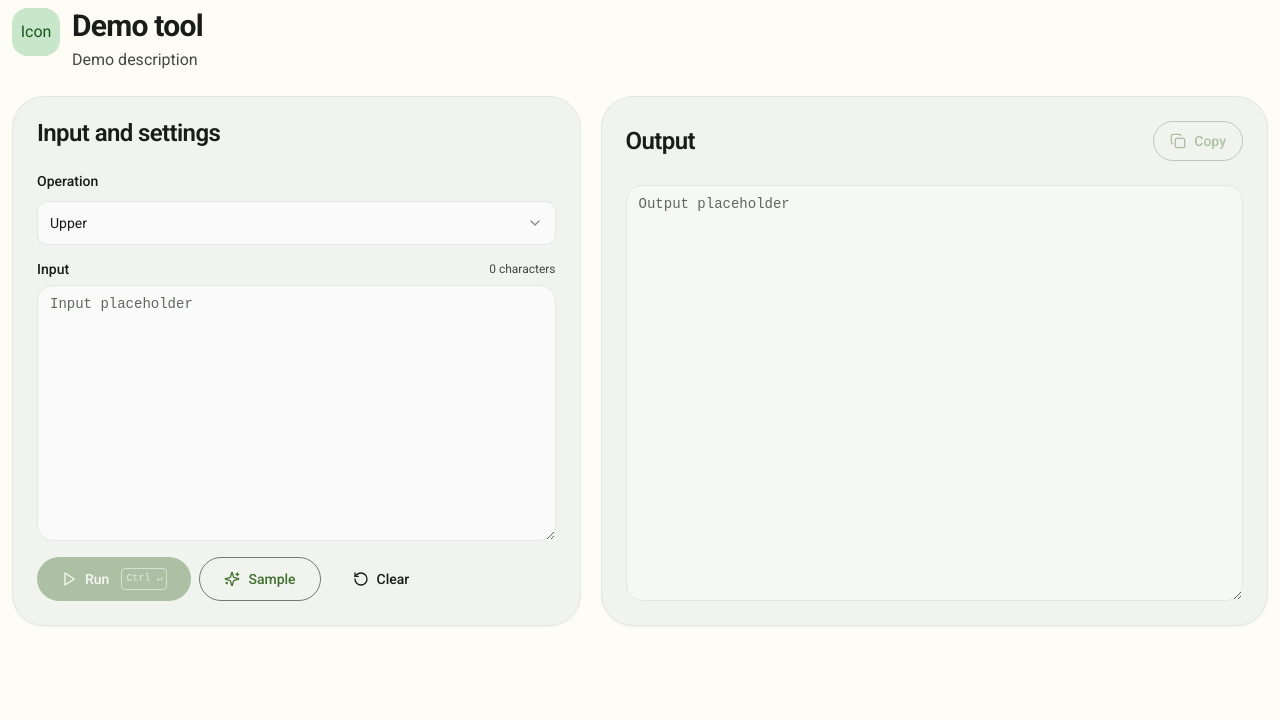
Scenario: UtilityWorkbench run flow › runs the sample right after loading it
This screenshot has width=1280, height=720.
Click the button "Sample" at (260, 579), box x1=199 y1=557 x2=321 y2=601
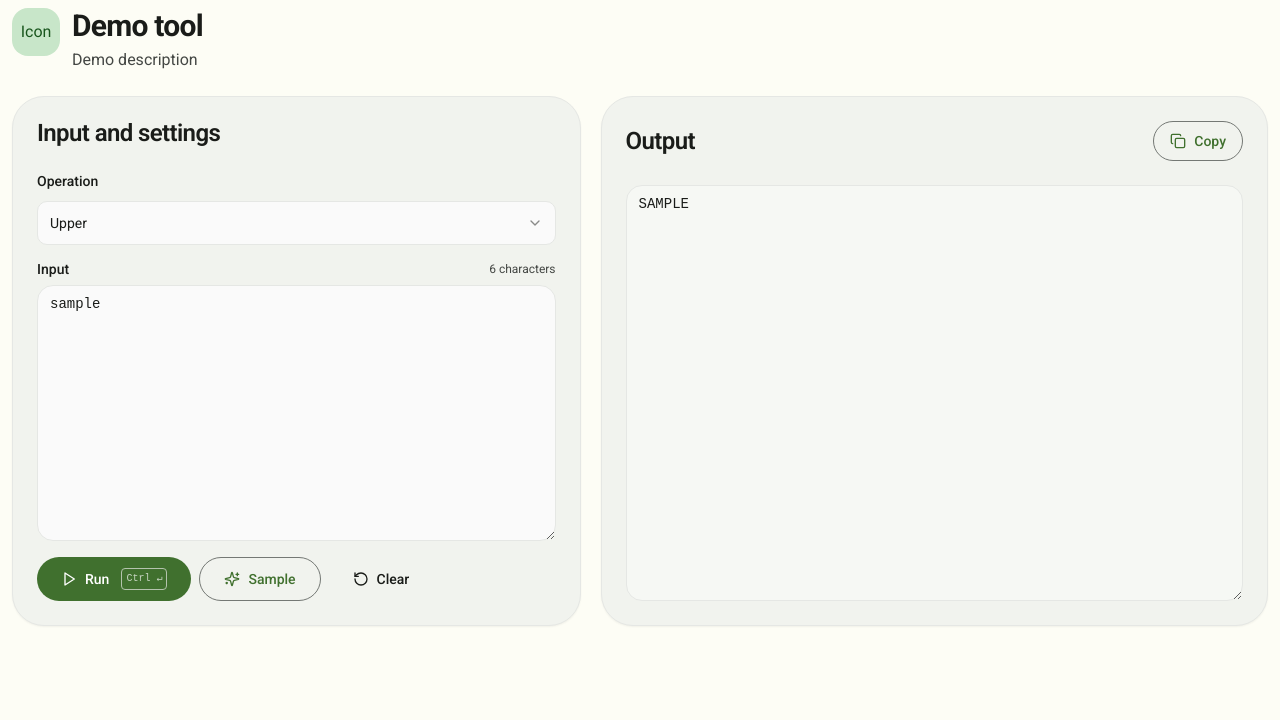
Expected: the 1st text box holds "SAMPLE", x1=626 y1=185 x2=1243 y2=601
